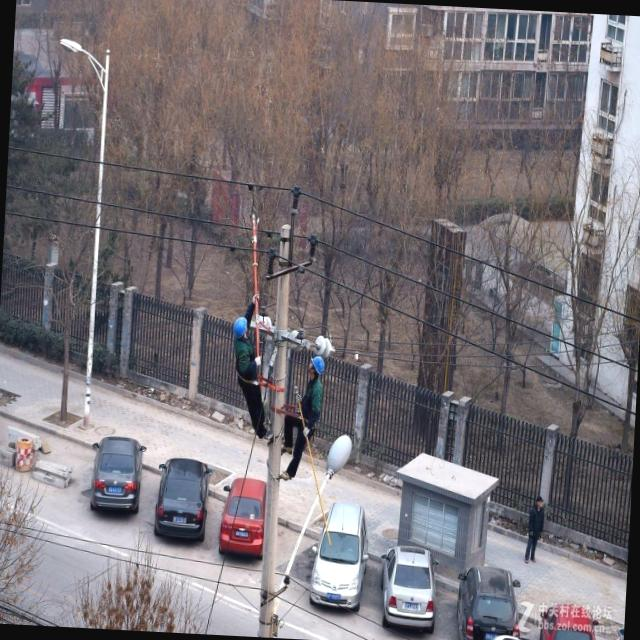helmet: (232, 314, 252, 344), (309, 352, 326, 378)
